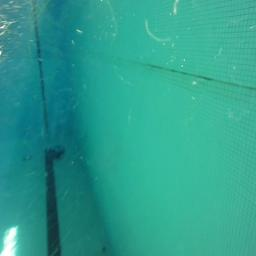Side: (44, 144, 65, 161)
